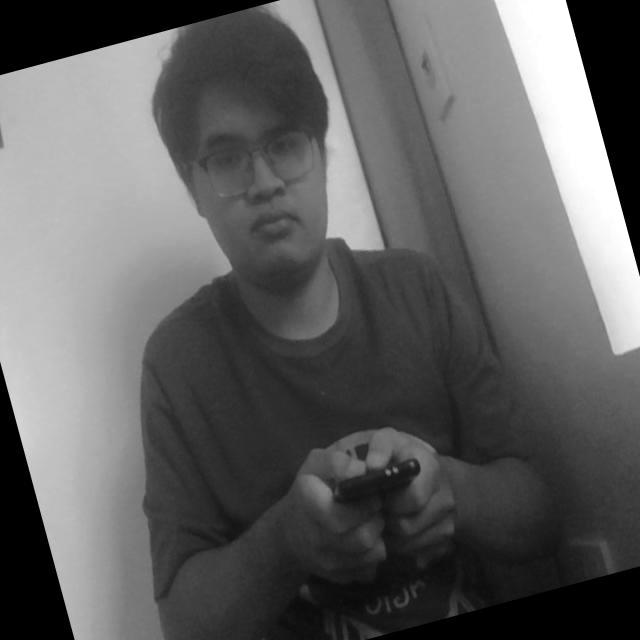phone: (291, 418, 447, 546)
